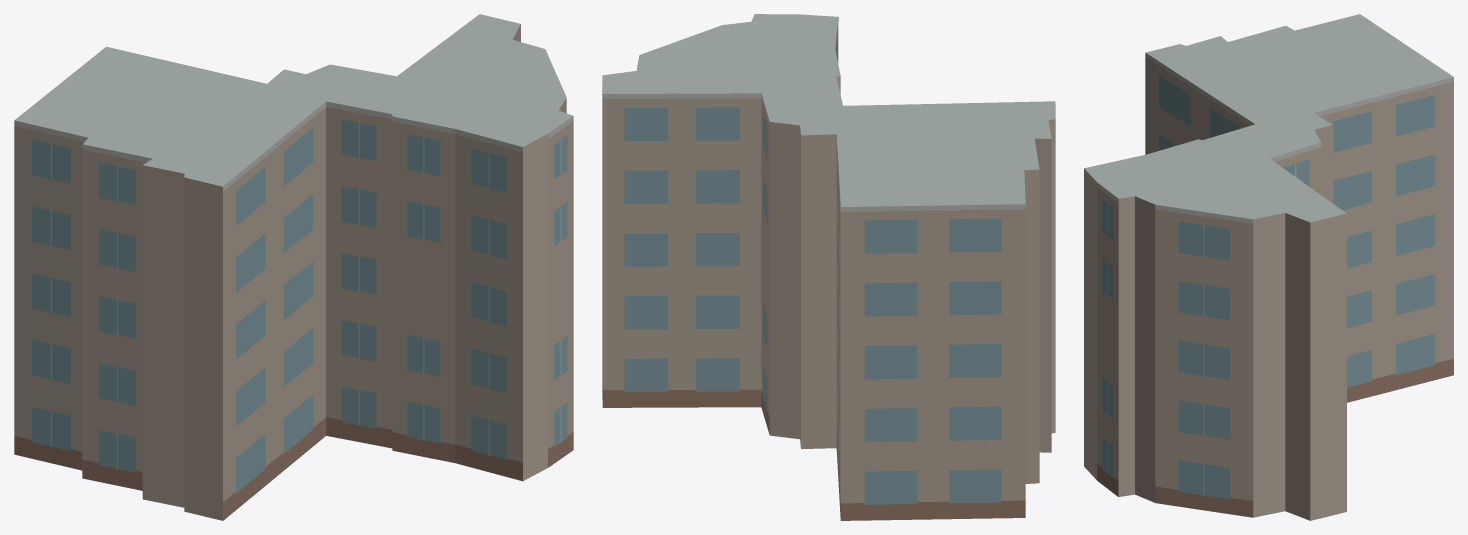
Rendered from survey-upis-33025167.glb.
3 views of the same model, side by side, from view 1: azimuth 30°, elevation 25°; view 2: azimuth 150°, elevation 25°; view 3: azimuth 270°, elevation 25° (orthographic). The views are drawn at different scales.
Visible parts, largest first — view 1: survey-upis-33025167.tmp; view 2: survey-upis-33025167.tmp; view 3: survey-upis-33025167.tmp.
Part boxes in pixels (x1,y1,x2,y2): survey-upis-33025167.tmp: (14,14,573,520); survey-upis-33025167.tmp: (602,14,1055,520); survey-upis-33025167.tmp: (1084,14,1453,520).
Size of the model in its own units: 22.87 by 15.25 by 17.14.
